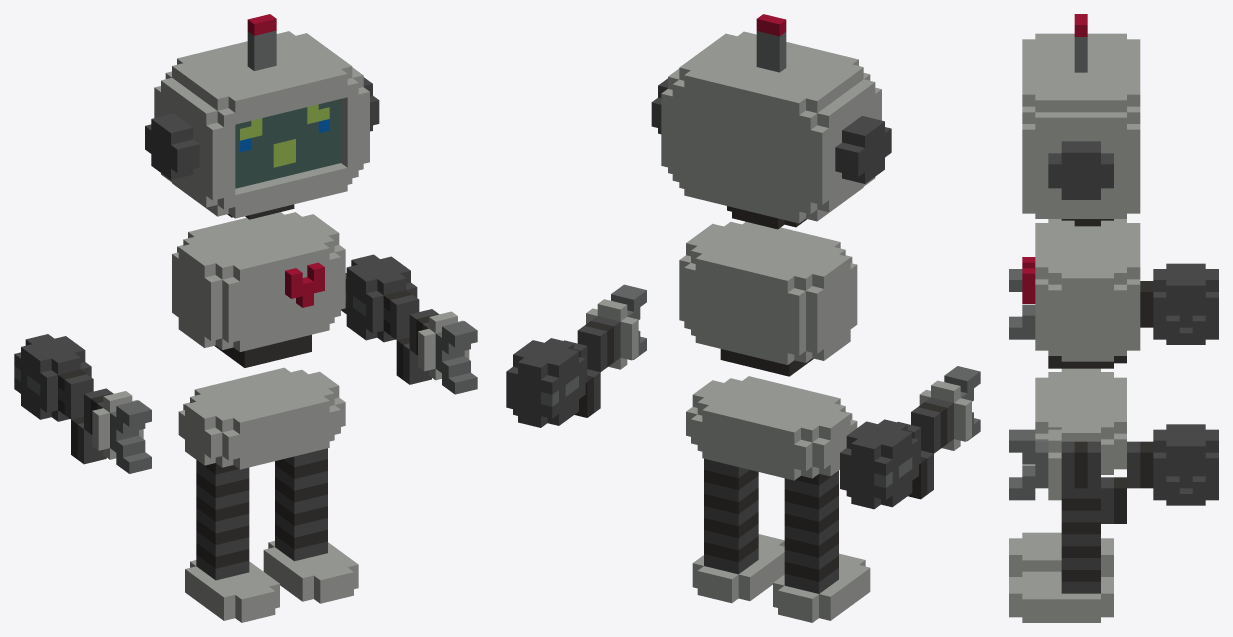
The model's file is player_main_death_2.fbx.
3 renders of one model, left to right at view 1: azimuth 30°, elevation 25°; view 2: azimuth 150°, elevation 25°; view 3: azimuth 270°, elevation 25°, orthographic. The views are drawn at different scales.
Visible parts, largest first — view 1: model_6; view 2: model_6; view 3: model_6.
Part boxes in pixels (left/top/right/bottom): model_6: left=14, top=14, right=477, bottom=622; model_6: left=506, top=14, right=980, bottom=622; model_6: left=1009, top=14, right=1218, bottom=622.
Bounding box in the file's own units: 330 × 160 × 480.
